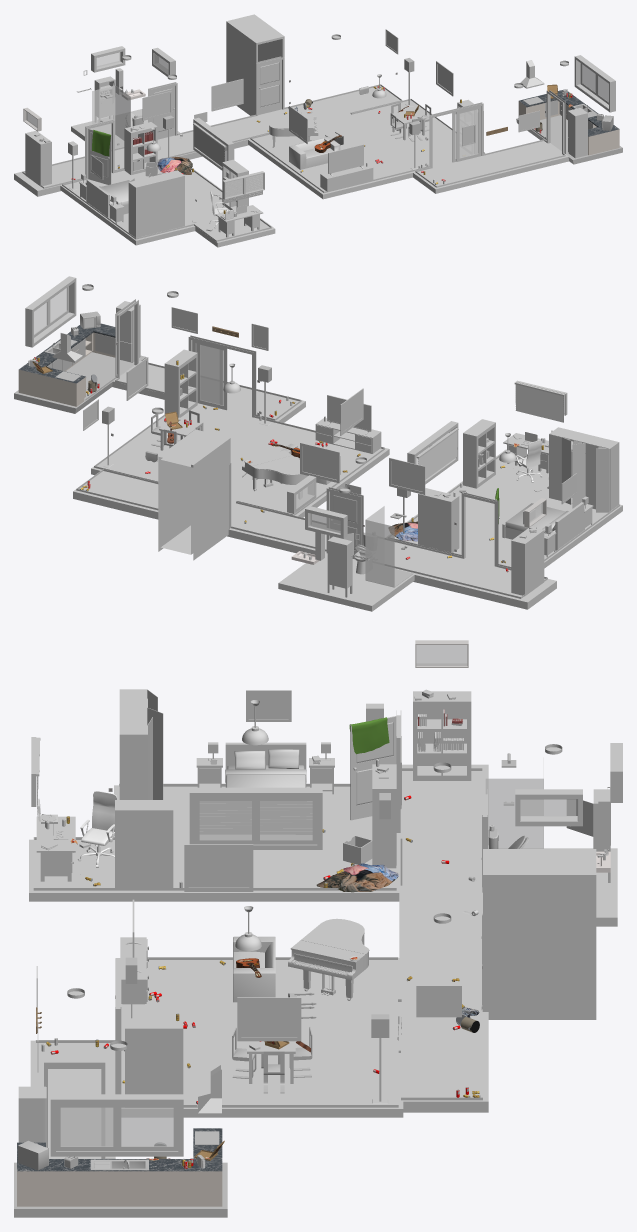
File: Rooms.fbx
The picture shows the model from 3 angles, top to bottom: view 1: azimuth 30°, elevation 25°; view 2: azimuth 150°, elevation 25°; view 3: azimuth 270°, elevation 25°; orthographic projection. The views are drawn at different scales.
Parts seen in each view (by area): view 1: Sala, Hallway, Quarto, Corredor_2, Moldura porta wc.004, Roupeiro, Estante.001, Porta entrada.001, Estante001, Sofa, Cozinha, Porta chuveiro (+37 smaller); view 2: Hallway, Sala, Moldura porta wc.004, Quarto, Wc, Estante001, Corredor_2, Cozinha, Estante.001, Estante.002, Estante, Banca 1 (+35 smaller); view 3: Sala, Hallway, Moldura porta wc.004, Quarto, Banca 2, Corredor_2, Estante, Estante.001, Estante.002, Vidro janela cozinha, Vidro janela quarto, Piano (+34 smaller).
Boxes of the visible parts, x1,y1,x2,y2 form: Sala: (248, 100, 485, 199); Hallway: (14, 86, 400, 196); Quarto: (60, 156, 275, 247); Corredor_2: (413, 140, 568, 193); Moldura porta wc.004: (226, 14, 284, 115); Roupeiro: (128, 170, 184, 237); Estante.001: (25, 130, 51, 186); Porta entrada.001: (258, 59, 281, 114); Estante001: (124, 122, 157, 174); Sofa: (289, 136, 340, 169); Cozinha: (516, 115, 622, 164); Porta chuveiro: (92, 85, 115, 134); Hallway: (73, 471, 556, 609); Sala: (91, 403, 389, 517); Moldura porta wc.004: (158, 429, 230, 560); Quarto: (386, 449, 622, 568); Wc: (278, 553, 414, 611); Estante001: (418, 488, 459, 552); Corredor_2: (112, 361, 305, 422); Cozinha: (14, 352, 146, 413); Estante.001: (511, 528, 544, 595); Estante.002: (164, 349, 197, 417); Estante: (463, 419, 495, 488); Banca 1: (18, 366, 86, 406); Sala: (115, 958, 403, 1117); Hallway: (399, 764, 488, 1112); Moldura porta wc.004: (483, 849, 596, 1019); Quarto: (29, 785, 401, 901); Banca 2: (17, 1159, 222, 1206); Corredor_2: (30, 1040, 115, 1158); Estante: (115, 800, 173, 887); Estante.001: (413, 691, 471, 780); Estante.002: (125, 1018, 183, 1094); Vidro janela cozinha: (60, 1107, 173, 1146); Vidro janela quarto: (199, 801, 312, 840); Piano: (288, 918, 369, 998).
Bounding box in the file's own units: 21.76 × 3.37 × 12.54.
